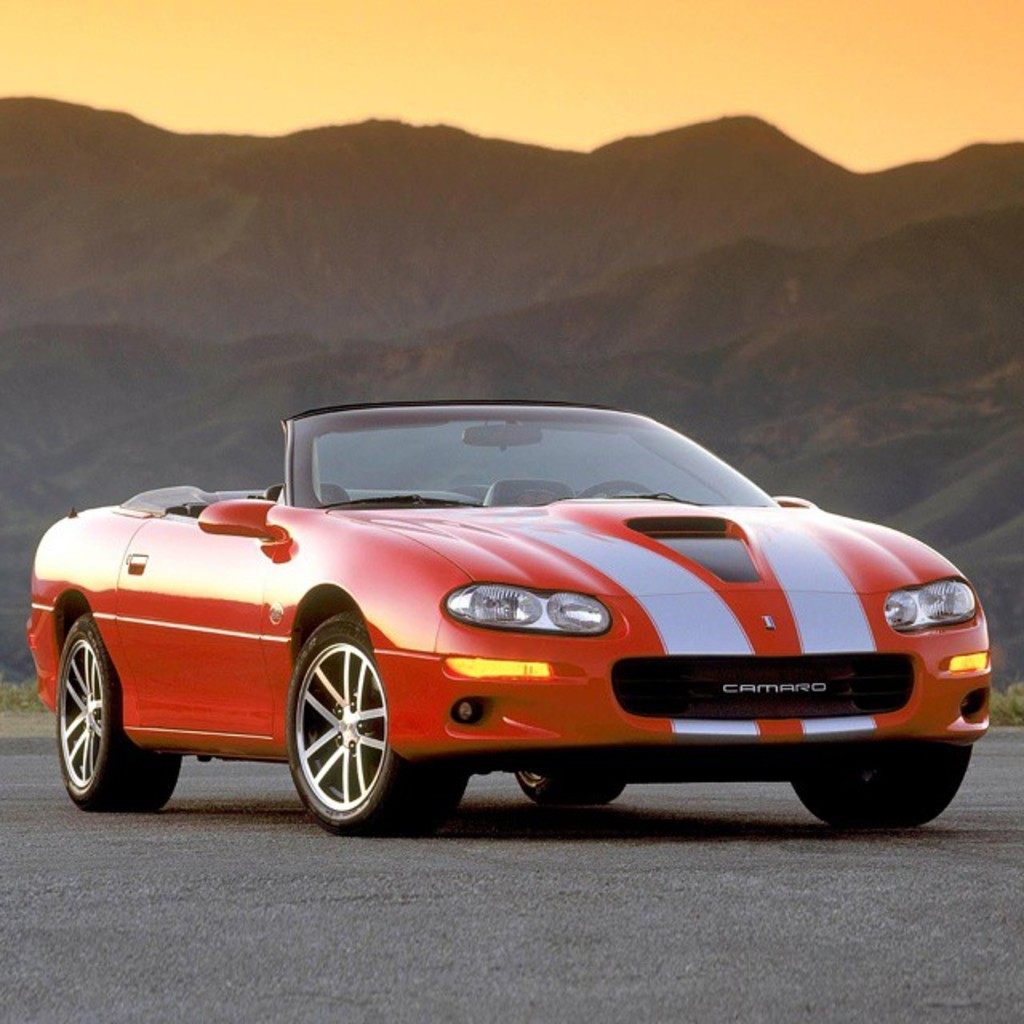Car: (28, 400, 1001, 828)
